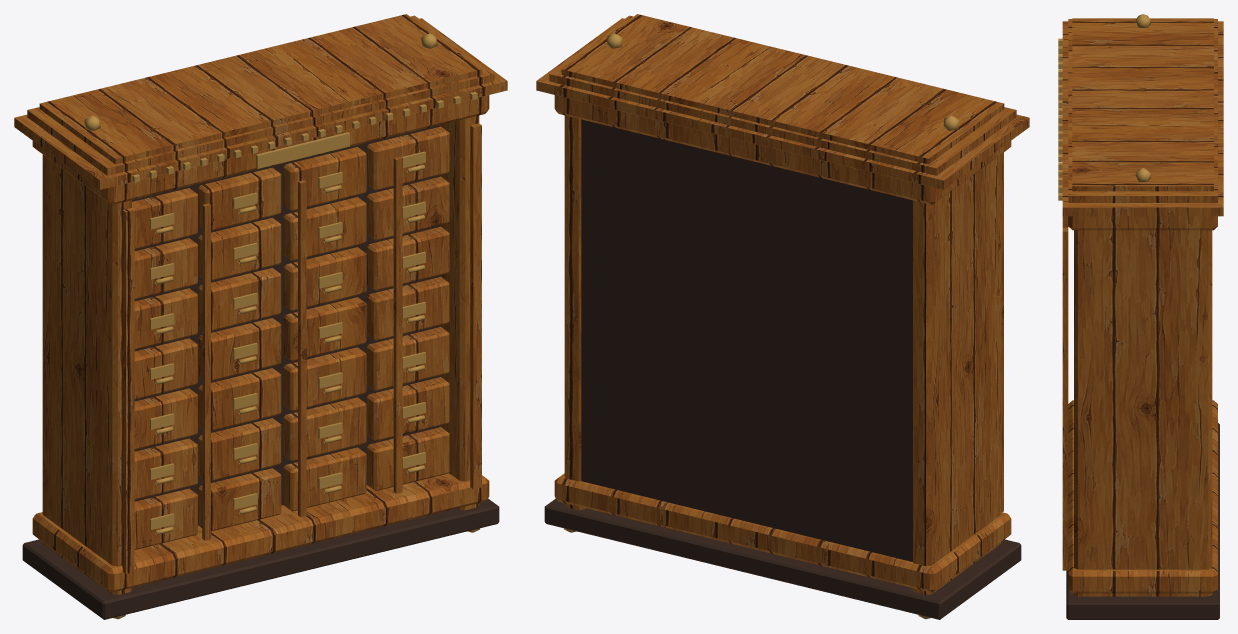
The picture shows the model from 3 angles, left to right: view 1: azimuth 30°, elevation 25°; view 2: azimuth 150°, elevation 25°; view 3: azimuth 270°, elevation 25°; orthographic projection. The views are drawn at different scales.
Visible parts, largest first — view 1: clockshop_walnut, clockshop_walnut.001, clockshop_darkwood.001, clockshop_brass, clockshop_darkwood, clockshop_brass.001; view 2: clockshop_darkwood, clockshop_walnut, clockshop_walnut.001, clockshop_darkwood.001; view 3: clockshop_walnut, clockshop_walnut.001, clockshop_darkwood.001, clockshop_brass.001.
Part boxes in pixels (bbox=[...]): clockshop_walnut: bbox=[32, 95, 489, 594]; clockshop_walnut.001: bbox=[14, 14, 507, 573]; clockshop_darkwood.001: bbox=[22, 498, 499, 619]; clockshop_brass: bbox=[150, 132, 425, 534]; clockshop_darkwood: bbox=[132, 125, 440, 525]; clockshop_brass.001: bbox=[84, 33, 479, 619]; clockshop_darkwood: bbox=[581, 119, 912, 561]; clockshop_walnut: bbox=[554, 95, 1011, 594]; clockshop_walnut.001: bbox=[536, 14, 1029, 512]; clockshop_darkwood.001: bbox=[544, 498, 1021, 619]; clockshop_walnut: bbox=[1068, 216, 1217, 596]; clockshop_walnut.001: bbox=[1062, 18, 1223, 570]; clockshop_darkwood.001: bbox=[1066, 423, 1219, 619]; clockshop_brass.001: bbox=[1058, 14, 1150, 200].
Bounding box in the file's own units: 2.3 × 2.57 × 0.8625.
Materials: 3 (1 with a texture image).
